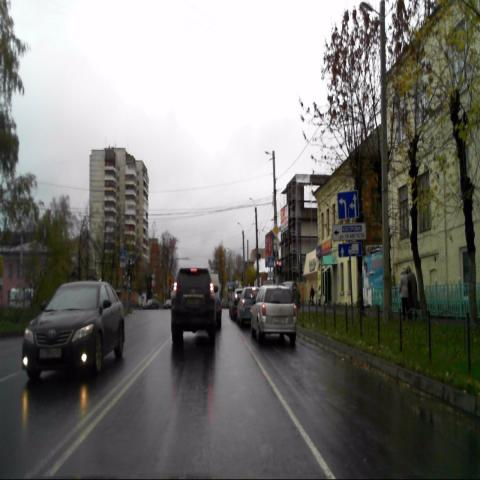6_15_1: (338, 242, 362, 257)
